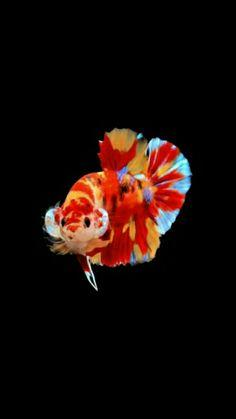goldfish: (26, 111, 222, 299)
